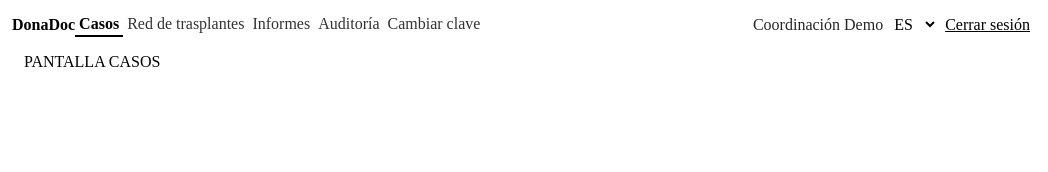
it: guardias de ruta › cerrar sesión limpia el token y vuelve al login
Click the button "Cerrar sesión" at (988, 24), box x1=939 y1=14 x2=1036 y2=34
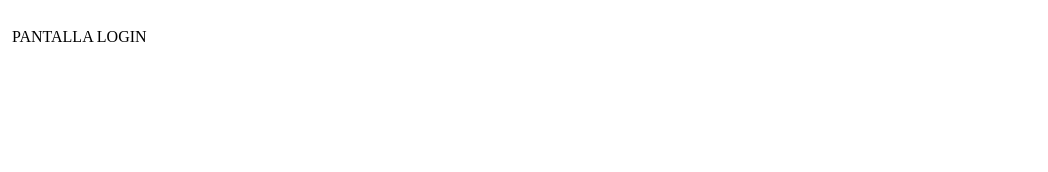
Expected: the text "PANTALLA LOGIN" is shown, x1=12 y1=28 x2=147 y2=45
